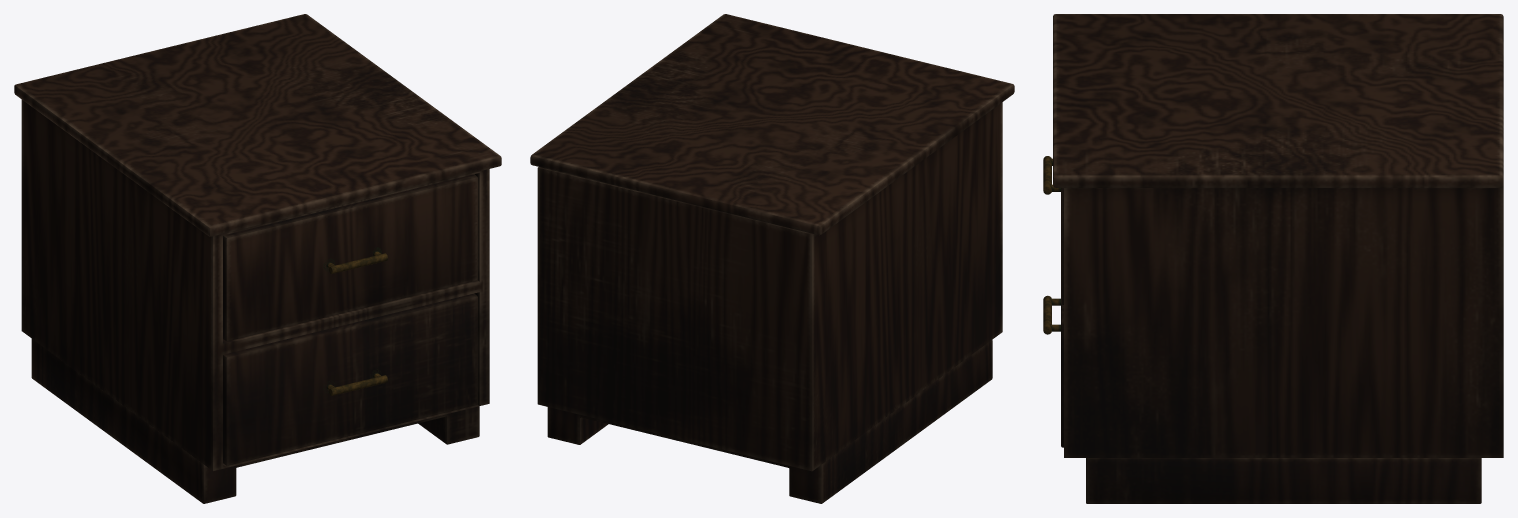
File: attic_commode_a.glb
The picture shows the model from 3 angles, left to right: view 1: azimuth 30°, elevation 25°; view 2: azimuth 150°, elevation 25°; view 3: azimuth 270°, elevation 25°; orthographic projection. The views are drawn at different scales.
Visible parts, largest first — view 1: Body, Drawer0, Drawer1, Drawer1Pull, Drawer0Pull; view 2: Body; view 3: Body.
Part boxes in pixels (x1,y1,x2,y2): Body: (14,14,501,503); Drawer0: (223,293,477,465); Drawer1: (223,174,477,341); Drawer1Pull: (323,247,387,273); Drawer0Pull: (323,369,387,395); Body: (530,14,1014,503); Body: (1053,14,1503,503).
Size of the model in its own units: 0.53 by 0.5 by 0.628.
Materials: 5 (5 with a texture image).
